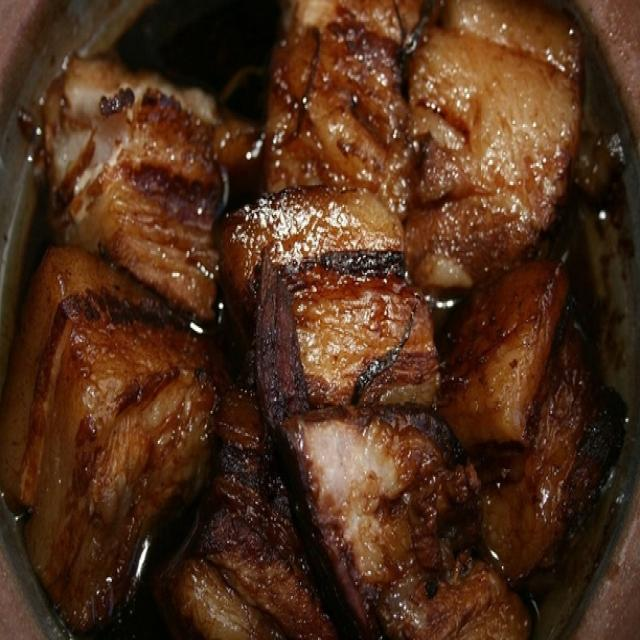牛肉菜式: (22, 8, 617, 629)
